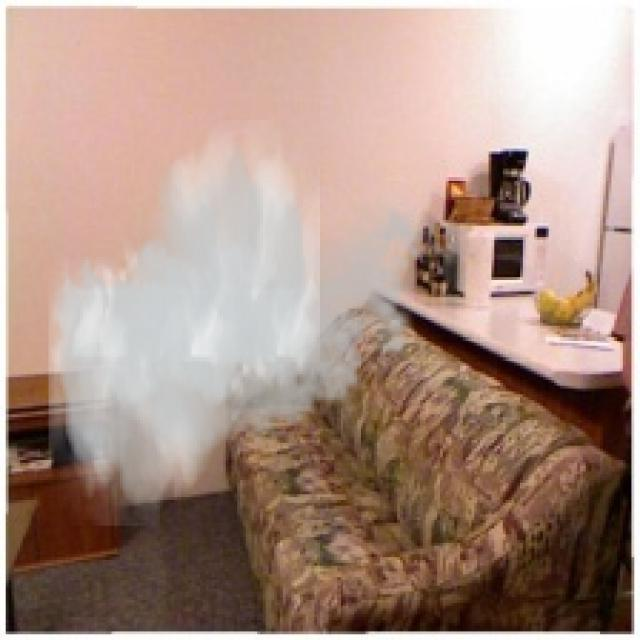Smoke: (48, 120, 434, 526)
